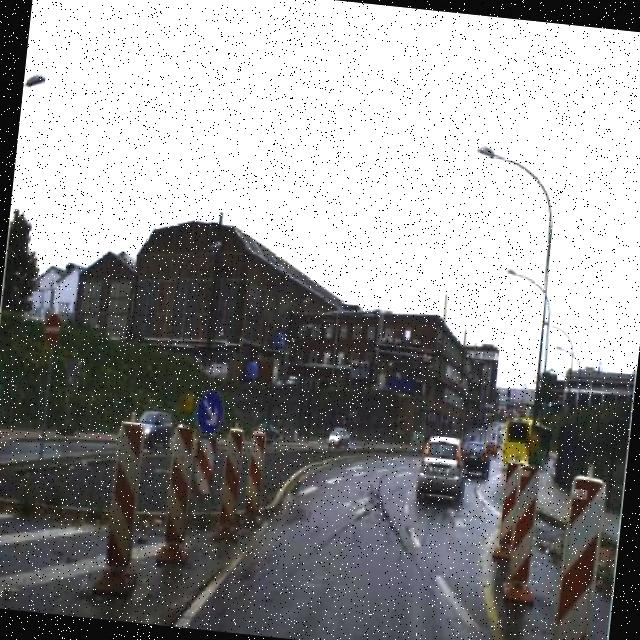Zakaz wjazdu: (40, 310, 64, 350)
